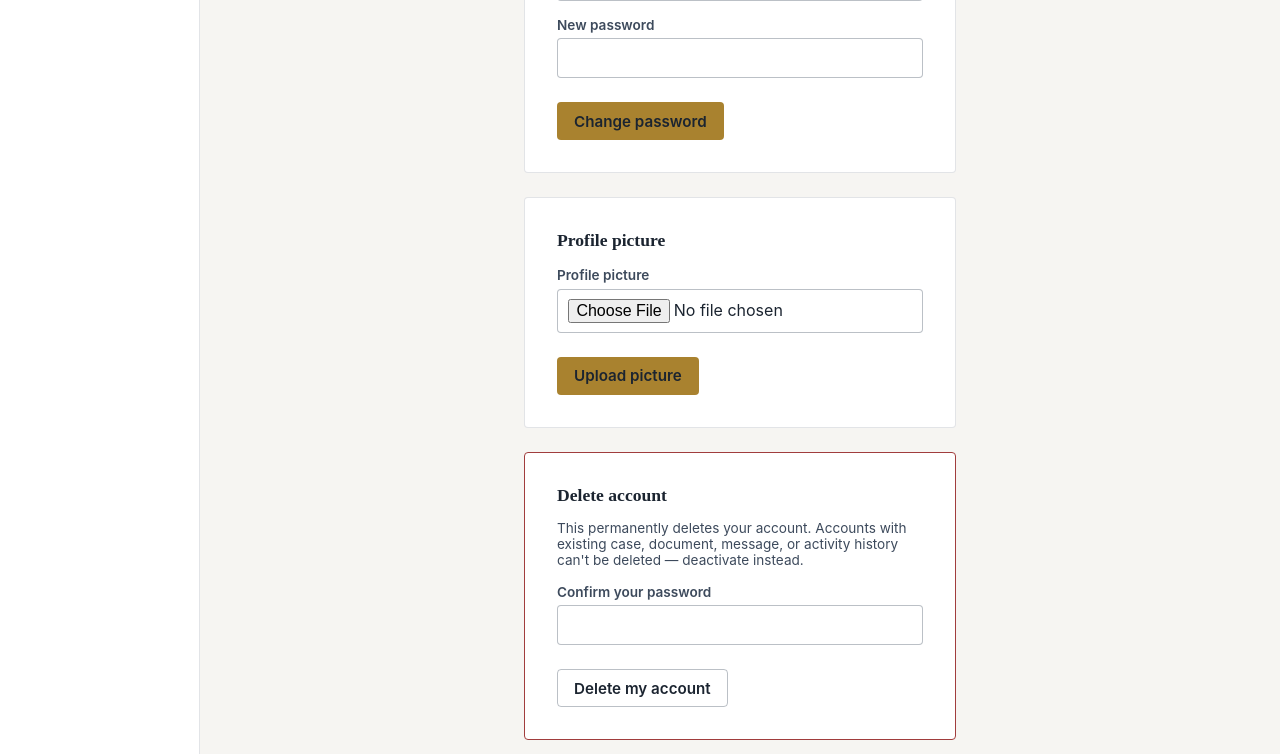
Scenario: ProfilePage › shows an error when account deletion fails
(page scrolled)
In the password field labelled "Confirm your password": (740, 625) [557,605,923,645], type "correct horse battery staple"
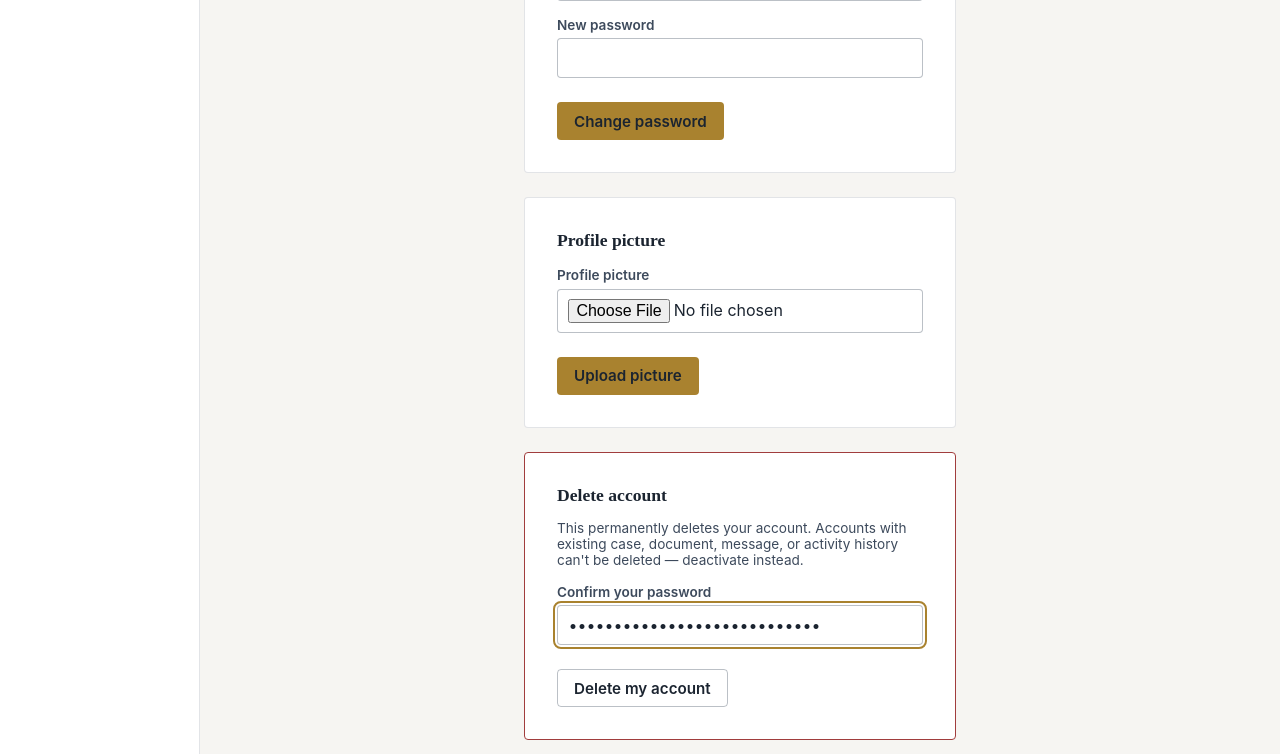
Click the button "Delete my account": (642, 688) [557,669,728,708]
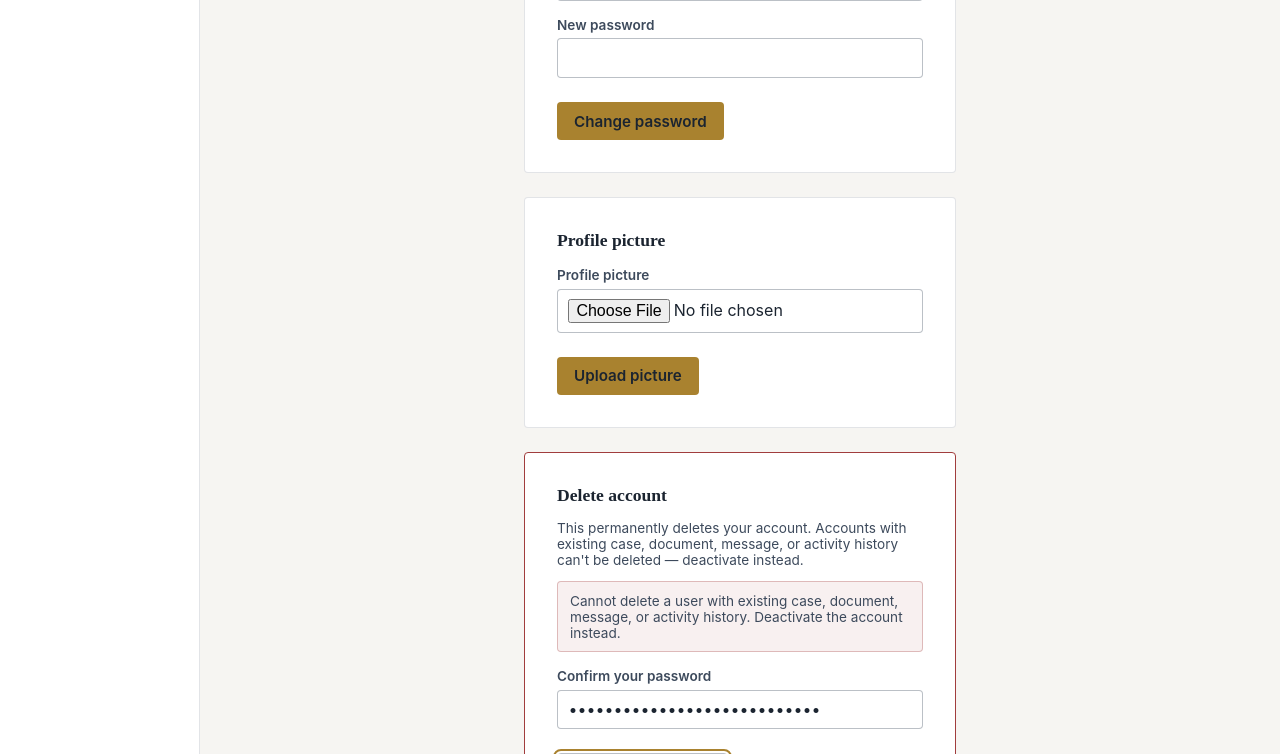
Expected: the text "deactivate the account instead" is shown, [570,593,903,641]
